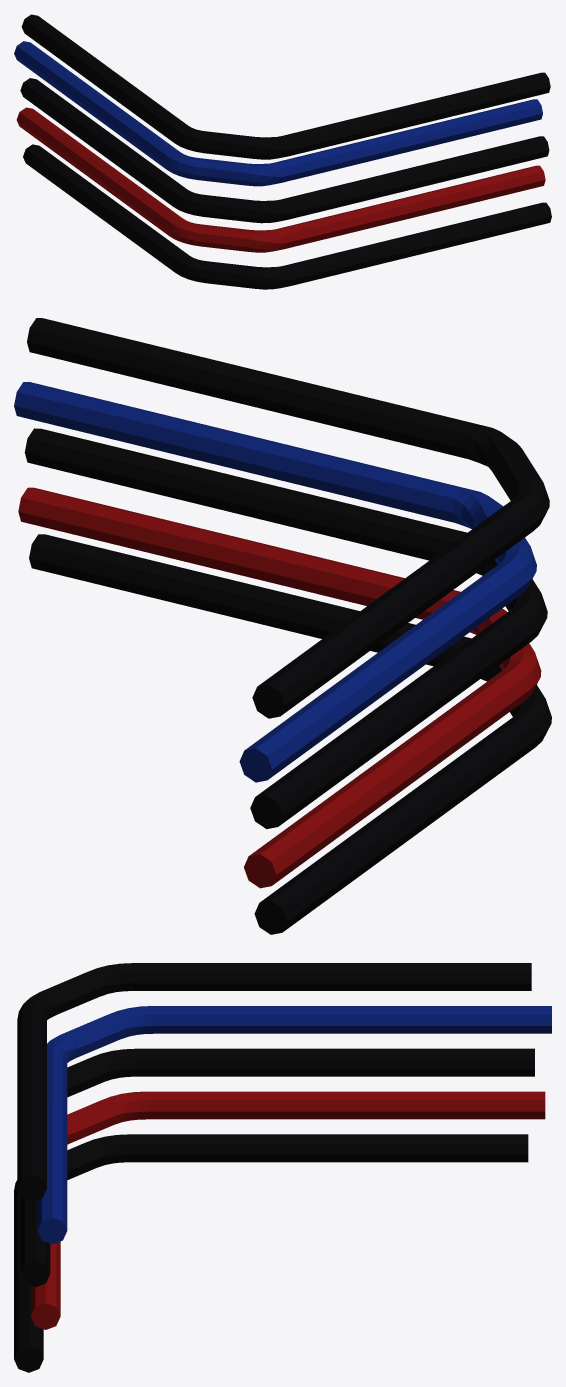
File: Favela_Run_Gamb_InnerCorner_XFront.fbx
3 views of the same model, one above another, from view 1: azimuth 30°, elevation 25°; view 2: azimuth 150°, elevation 25°; view 3: azimuth 270°, elevation 25° (orthographic). The views are drawn at different scales.
Visible parts, largest first — view 1: Favela_Run_Gamb_InnerCorner_XFront; view 2: Favela_Run_Gamb_InnerCorner_XFront; view 3: Favela_Run_Gamb_InnerCorner_XFront.
Part boxes in pixels (left/top/right/bottom): Favela_Run_Gamb_InnerCorner_XFront: left=14, top=14, right=551, bottom=289; Favela_Run_Gamb_InnerCorner_XFront: left=14, top=318, right=551, bottom=934; Favela_Run_Gamb_InnerCorner_XFront: left=14, top=963, right=551, bottom=1372.
Bounding box in the file's own units: 0.762 × 0.324 × 0.797.
